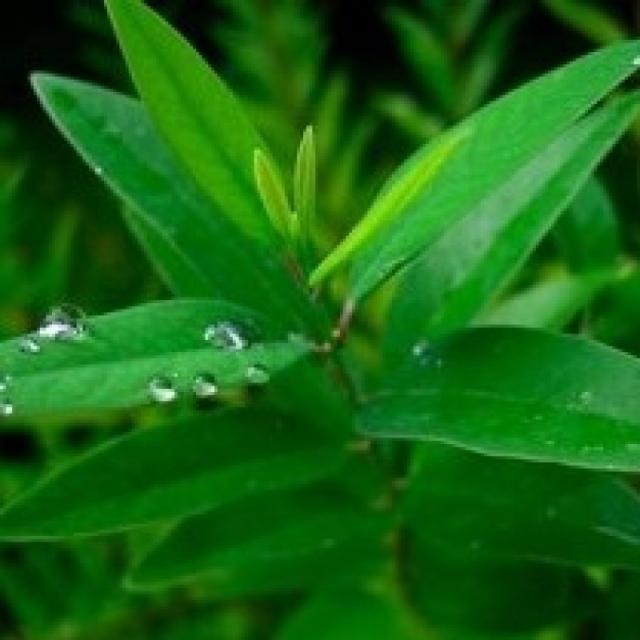Sandalwood: (88, 39, 640, 634)
